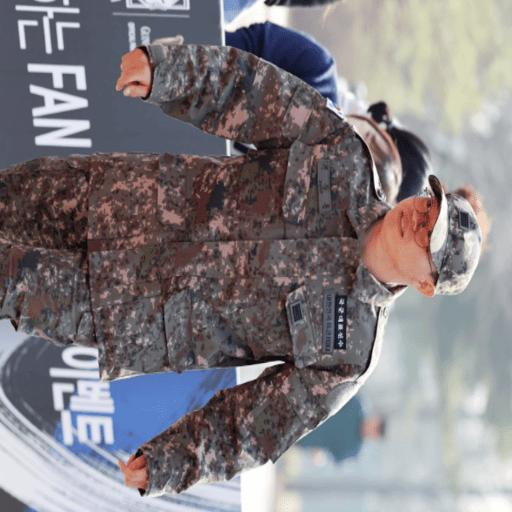korea army: (0, 37, 484, 496)
